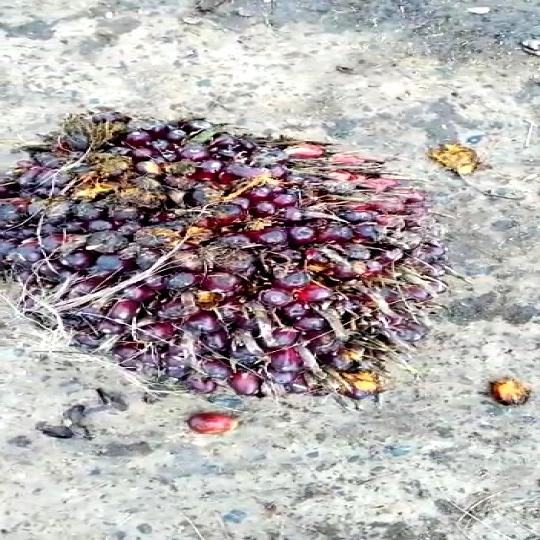masak: (0, 109, 448, 401)
